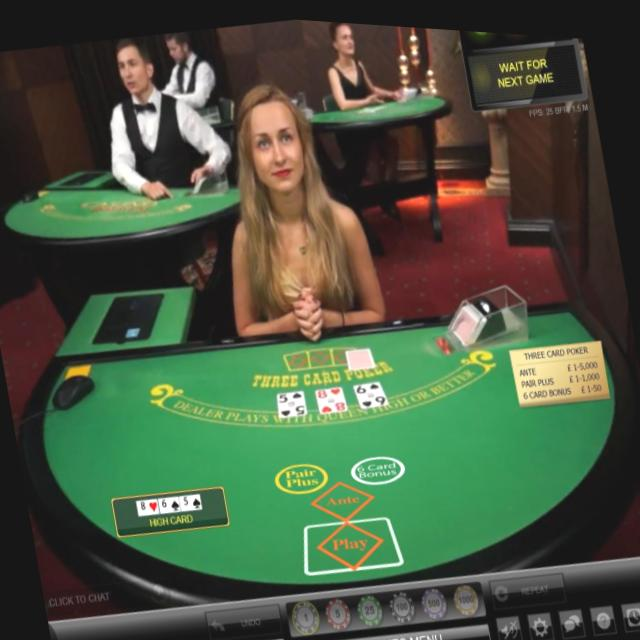Card-5: (276, 386, 306, 414)
Card-6: (353, 376, 388, 403)
Card-8: (316, 381, 347, 409)
